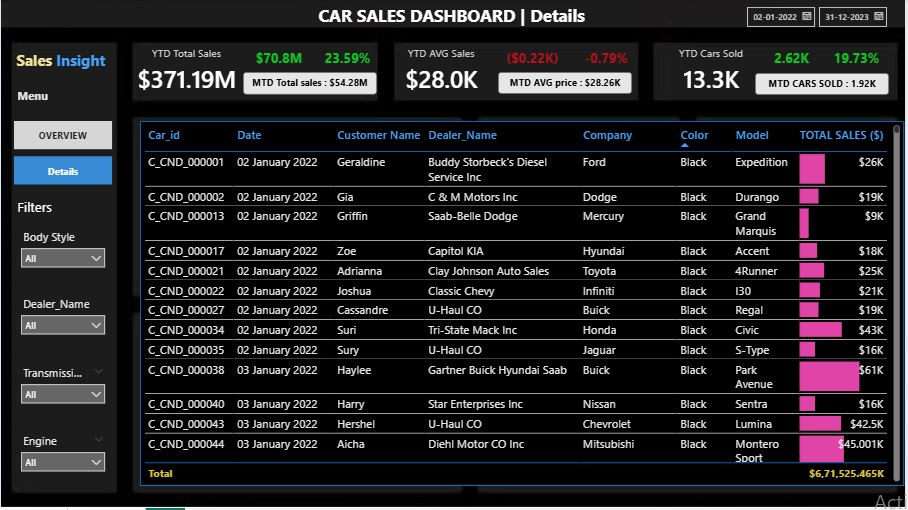

The page's visual inventory and layout, read from the dashboard file:
{"tool":"powerbi","page":{"name":"Details ","canvas":[1280,720],"ordinal":1},"visuals":[{"type":"card","title":"YTD Total Sales ","fields":{"Values":["car_data.YTDd Total sales"]},"box":[184.7,65.3,157.7,73.9],"z":0},{"type":"card","fields":{"Values":["car_data.Sales Difference"]},"box":[352.9,65.2,82.2,36.9],"z":1000},{"type":"card","fields":{"Values":["car_data.YOY Sales Gowth"]},"box":[449.3,65.2,83.6,36.9],"z":2000},{"type":"card","fields":{"Values":["car_data.MTD KPI"]},"box":[342.4,102.3,190.4,32],"z":3000},{"type":"card","title":"YTD AVG Sales ","fields":{"Values":["car_data.YTD avg price"]},"box":[544.3,65.5,159.6,73.9],"z":4000},{"type":"card","fields":{"Values":["car_data.AVG price diff"]},"box":[707.2,65.2,92.1,36.9],"z":5000},{"type":"card","fields":{"Values":["car_data.YOY AVG PRICE GROWTH"]},"box":[812.1,65.2,92.1,36.9],"z":6000},{"type":"card","fields":{"Values":["car_data.MTD AVG  KPI"]},"box":[704.6,102.3,190.4,31],"z":7000},{"type":"card","title":"YTD Cars Sold  ","fields":{"Values":["car_data.YTD CAR SOLD"]},"box":[926.3,65.3,159.1,73.9],"z":8000},{"type":"card","fields":{"Values":["car_data.CARS SOLD DIFF"]},"box":[1074,65.3,92.3,36.9],"z":9000},{"type":"card","fields":{"Values":["car_data.YOY CARS SOLD GROWTH"]},"box":[1166.5,65.2,92.1,36.9],"z":10000},{"type":"card","fields":{"Values":["car_data.MTD CARS SOLD KPI"]},"box":[1068.3,103.7,190.4,31.3],"z":11000},{"type":"textbox","box":[411.5,0,455.2,42],"z":16000},{"type":"slicer","fields":{"Values":["car_data.Body Style"]},"box":[18.5,319.2,139.4,80.6],"z":18000},{"type":"slicer","fields":{"Values":["car_data.Dealer_Name"]},"box":[18.5,413.2,139.4,80.6],"z":19000},{"type":"slicer","fields":{"Values":["car_data.Transmission"]},"box":[18.5,512.3,139.4,80.6],"z":20000},{"type":"slicer","fields":{"Values":["car_data.Engine"]},"box":[18.5,608.1,139.4,80.6],"z":21000},{"type":"textbox","box":[18.5,275.5,94.1,43.7],"z":22000},{"type":"tableEx","fields":{"Values":["car_data.Car_id","car_data.Date","car_data.Customer Name","car_data.Dealer_Name","car_data.Company","car_data.Color","car_data.Model","Sum(car_data.Price ($))"]},"box":[196.5,171.3,1083.5,517.4],"z":22001},{"type":"textbox","box":[13.4,65.5,144.5,52.1],"z":22002},{"type":"textbox","box":[18.5,119.3,119.3,38.6],"z":22003},{"type":"pageNavigator","box":[18.5,171.3,139.4,90.7],"z":22005},{"type":"slicer","fields":{"Values":["Calander.Date"]},"box":[1044.8,0,223.4,42],"z":22006}]}

Visuals, with their boxes on the page's 1280x720 design canvas (x1, y1, x2, y2). These are canvas units, not pixel positions in the 908x510 screenshot, which may show the page scaled, cropped or inside an application window:
"YTD Total Sales " card: Rect(185, 65, 342, 139)
card - car_data.Sales Difference: Rect(353, 65, 435, 102)
card - car_data.YOY Sales Gowth: Rect(449, 65, 533, 102)
card - car_data.MTD KPI: Rect(342, 102, 533, 134)
"YTD AVG Sales " card: Rect(544, 66, 704, 139)
card - car_data.AVG price diff: Rect(707, 65, 799, 102)
card - car_data.YOY AVG PRICE GROWTH: Rect(812, 65, 904, 102)
card - car_data.MTD AVG  KPI: Rect(705, 102, 895, 133)
"YTD Cars Sold  " card: Rect(926, 65, 1085, 139)
card - car_data.CARS SOLD DIFF: Rect(1074, 65, 1166, 102)
card - car_data.YOY CARS SOLD GROWTH: Rect(1166, 65, 1259, 102)
card - car_data.MTD CARS SOLD KPI: Rect(1068, 104, 1259, 135)
textbox: Rect(412, 0, 867, 42)
slicer - car_data.Body Style: Rect(18, 319, 158, 400)
slicer - car_data.Dealer_Name: Rect(18, 413, 158, 494)
slicer - car_data.Transmission: Rect(18, 512, 158, 593)
slicer - car_data.Engine: Rect(18, 608, 158, 689)
textbox: Rect(18, 276, 113, 319)
tableEx - car_data.Car_id x car_data.Date: Rect(196, 171, 1280, 689)
textbox: Rect(13, 66, 158, 118)
textbox: Rect(18, 119, 138, 158)
pageNavigator: Rect(18, 171, 158, 262)
slicer - Calander.Date: Rect(1045, 0, 1268, 42)
